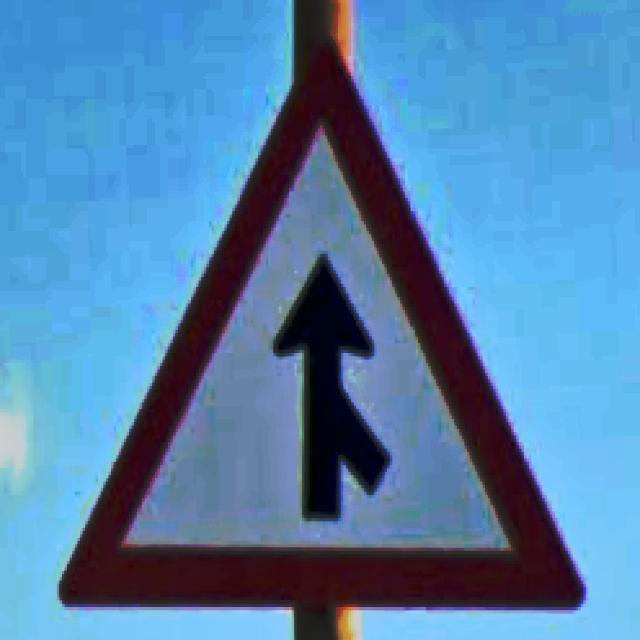rightmerge: (59, 42, 585, 607)
